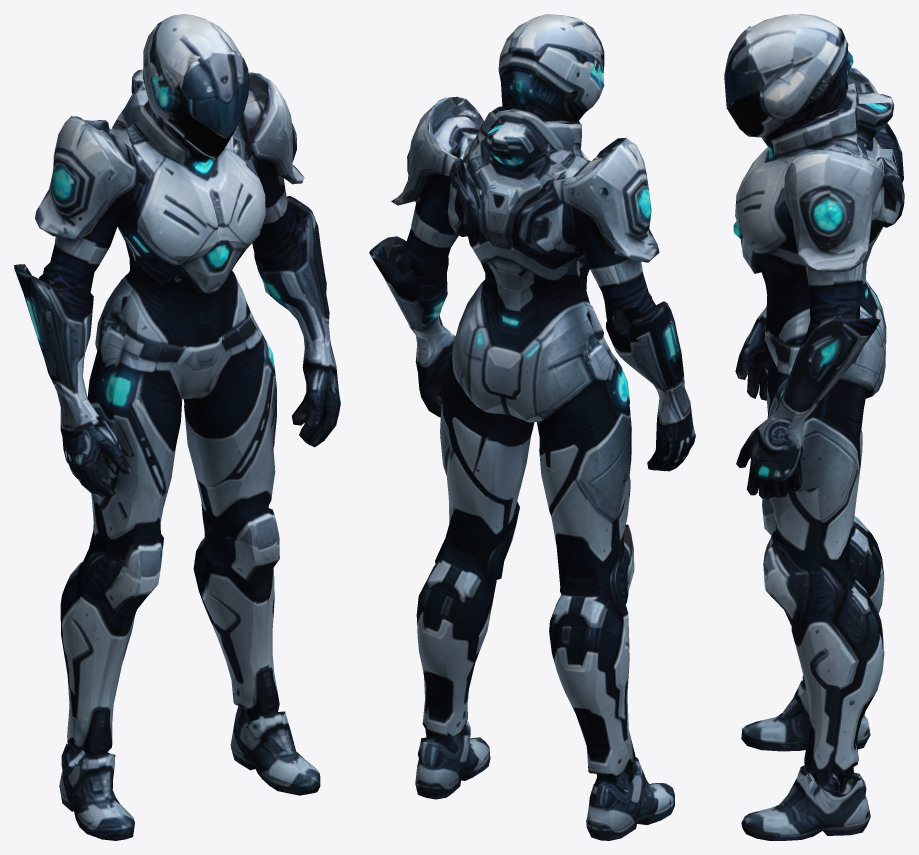
File: 3d_trellis_ai-_scifi_armor_test_3 copia.glb
3 views of the same model, side by side, from view 1: azimuth 30°, elevation 25°; view 2: azimuth 150°, elevation 25°; view 3: azimuth 270°, elevation 25° (orthographic).
Parts seen in each view (by area): view 1: world_1; view 2: world_1; view 3: world_1.
Part boxes in pixels (bbox=[...]): world_1: bbox=[14, 14, 340, 840]; world_1: bbox=[369, 14, 695, 840]; world_1: bbox=[724, 14, 904, 840].
Size of the model in its own units: 0.3834 by 1 by 0.213.
1 material, 1 textured.
